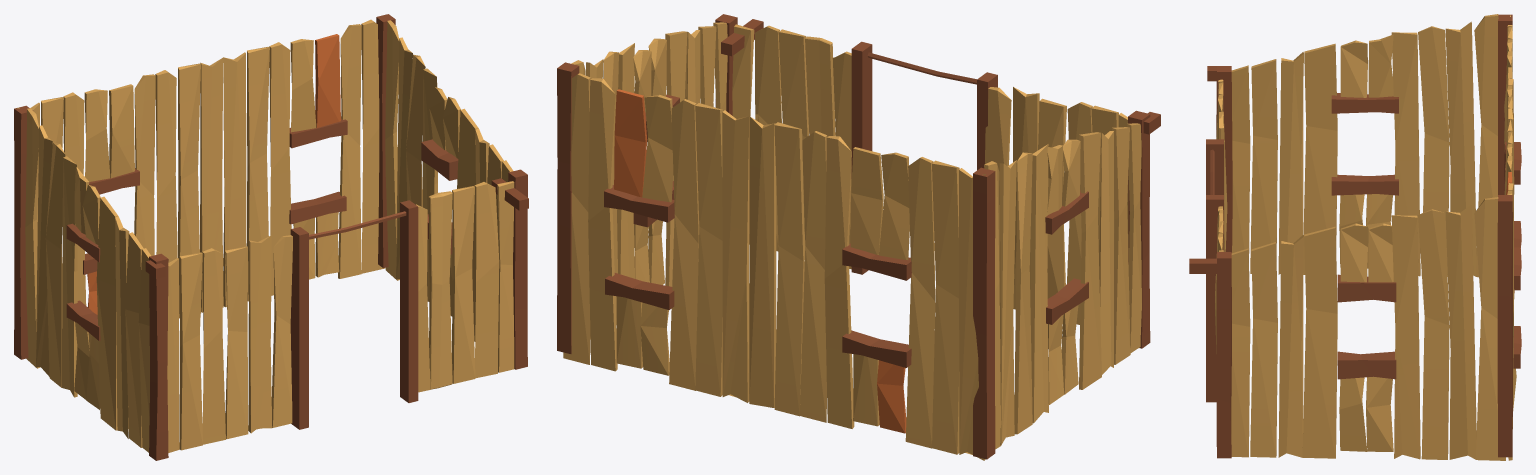
The model's file is House 1.fbx.
3 views of the same model, side by side, from view 1: azimuth 30°, elevation 25°; view 2: azimuth 150°, elevation 25°; view 3: azimuth 270°, elevation 25° (orthographic). The views are drawn at different scales.
Visible parts, largest first — view 1: House 1; view 2: House 1; view 3: House 1.
Boxes of the visible parts, <box> form: House 1: <box>14,14,528,460</box>; House 1: <box>557,14,1160,460</box>; House 1: <box>1189,14,1521,460</box>.
Size of the model in its own units: 409 by 260 by 298.
